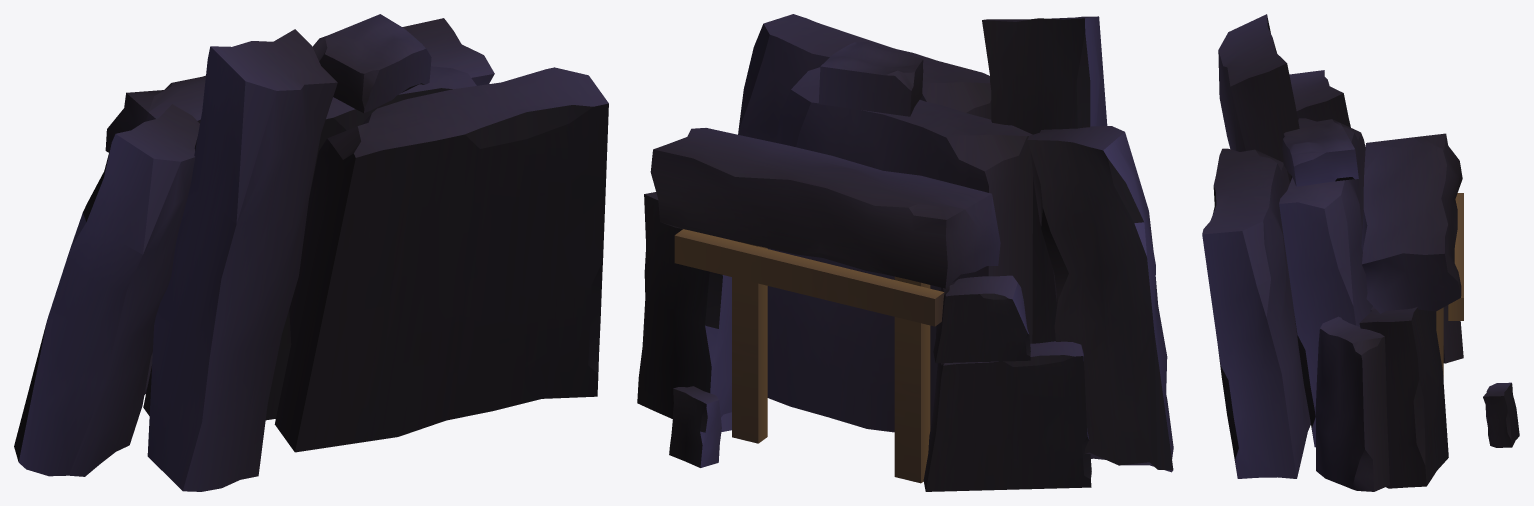
The model's file is CAVE.fbx.
3 views of the same model, side by side, from view 1: azimuth 30°, elevation 25°; view 2: azimuth 150°, elevation 25°; view 3: azimuth 270°, elevation 25° (orthographic). The views are drawn at different scales.
Parts seen in each view (by area): view 1: cave.004; view 2: cave.004; view 3: cave.004.
Part boxes in pixels (box(x1,y1,x2,y2)): cave.004: box(14, 14, 608, 491); cave.004: box(637, 14, 1173, 491); cave.004: box(1202, 14, 1519, 491).
Size of the model in its own units: 1609 by 1266 by 1050.
